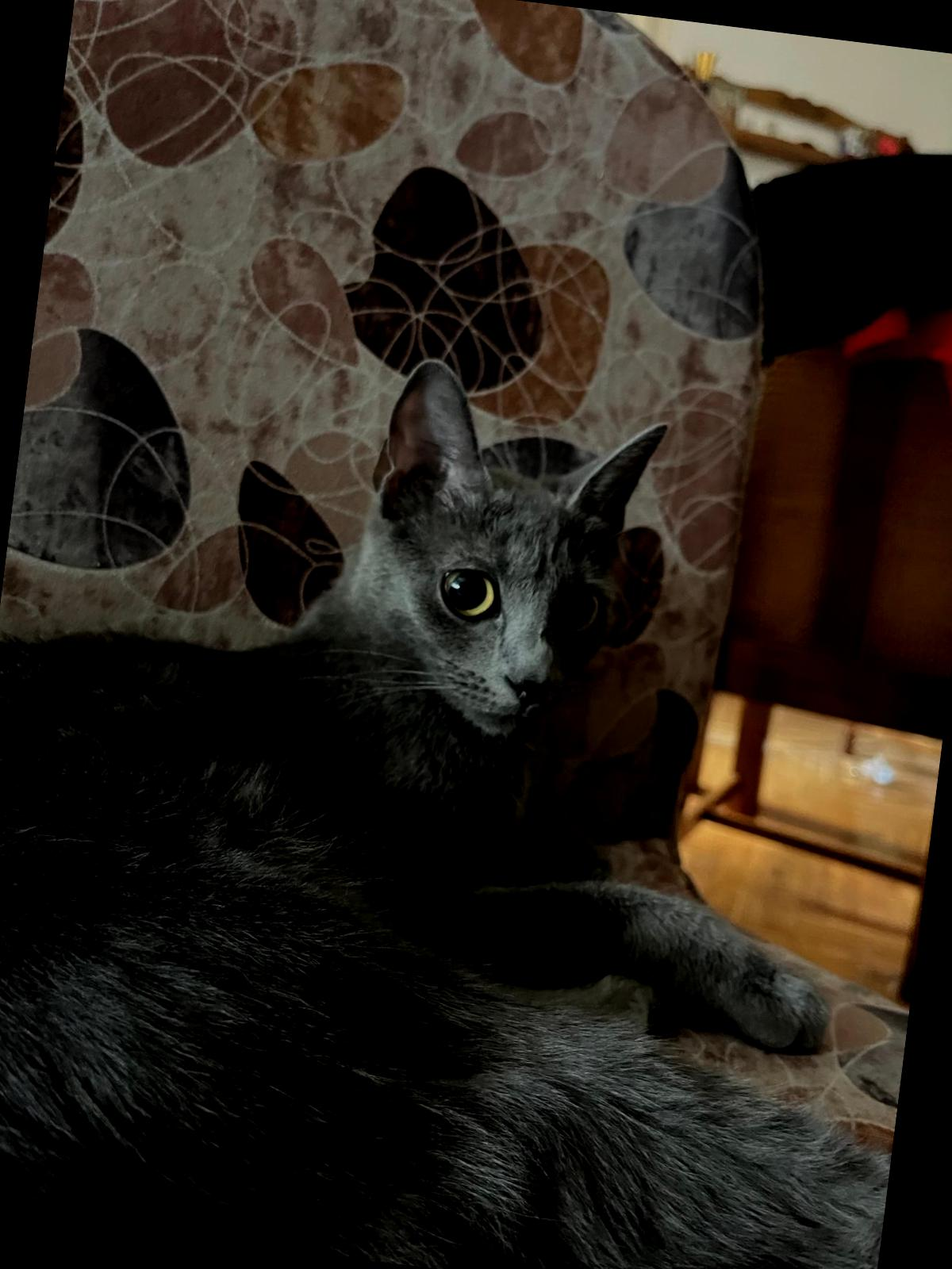macka: (0, 309, 952, 1269)
